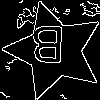B: (29, 25, 66, 72)
